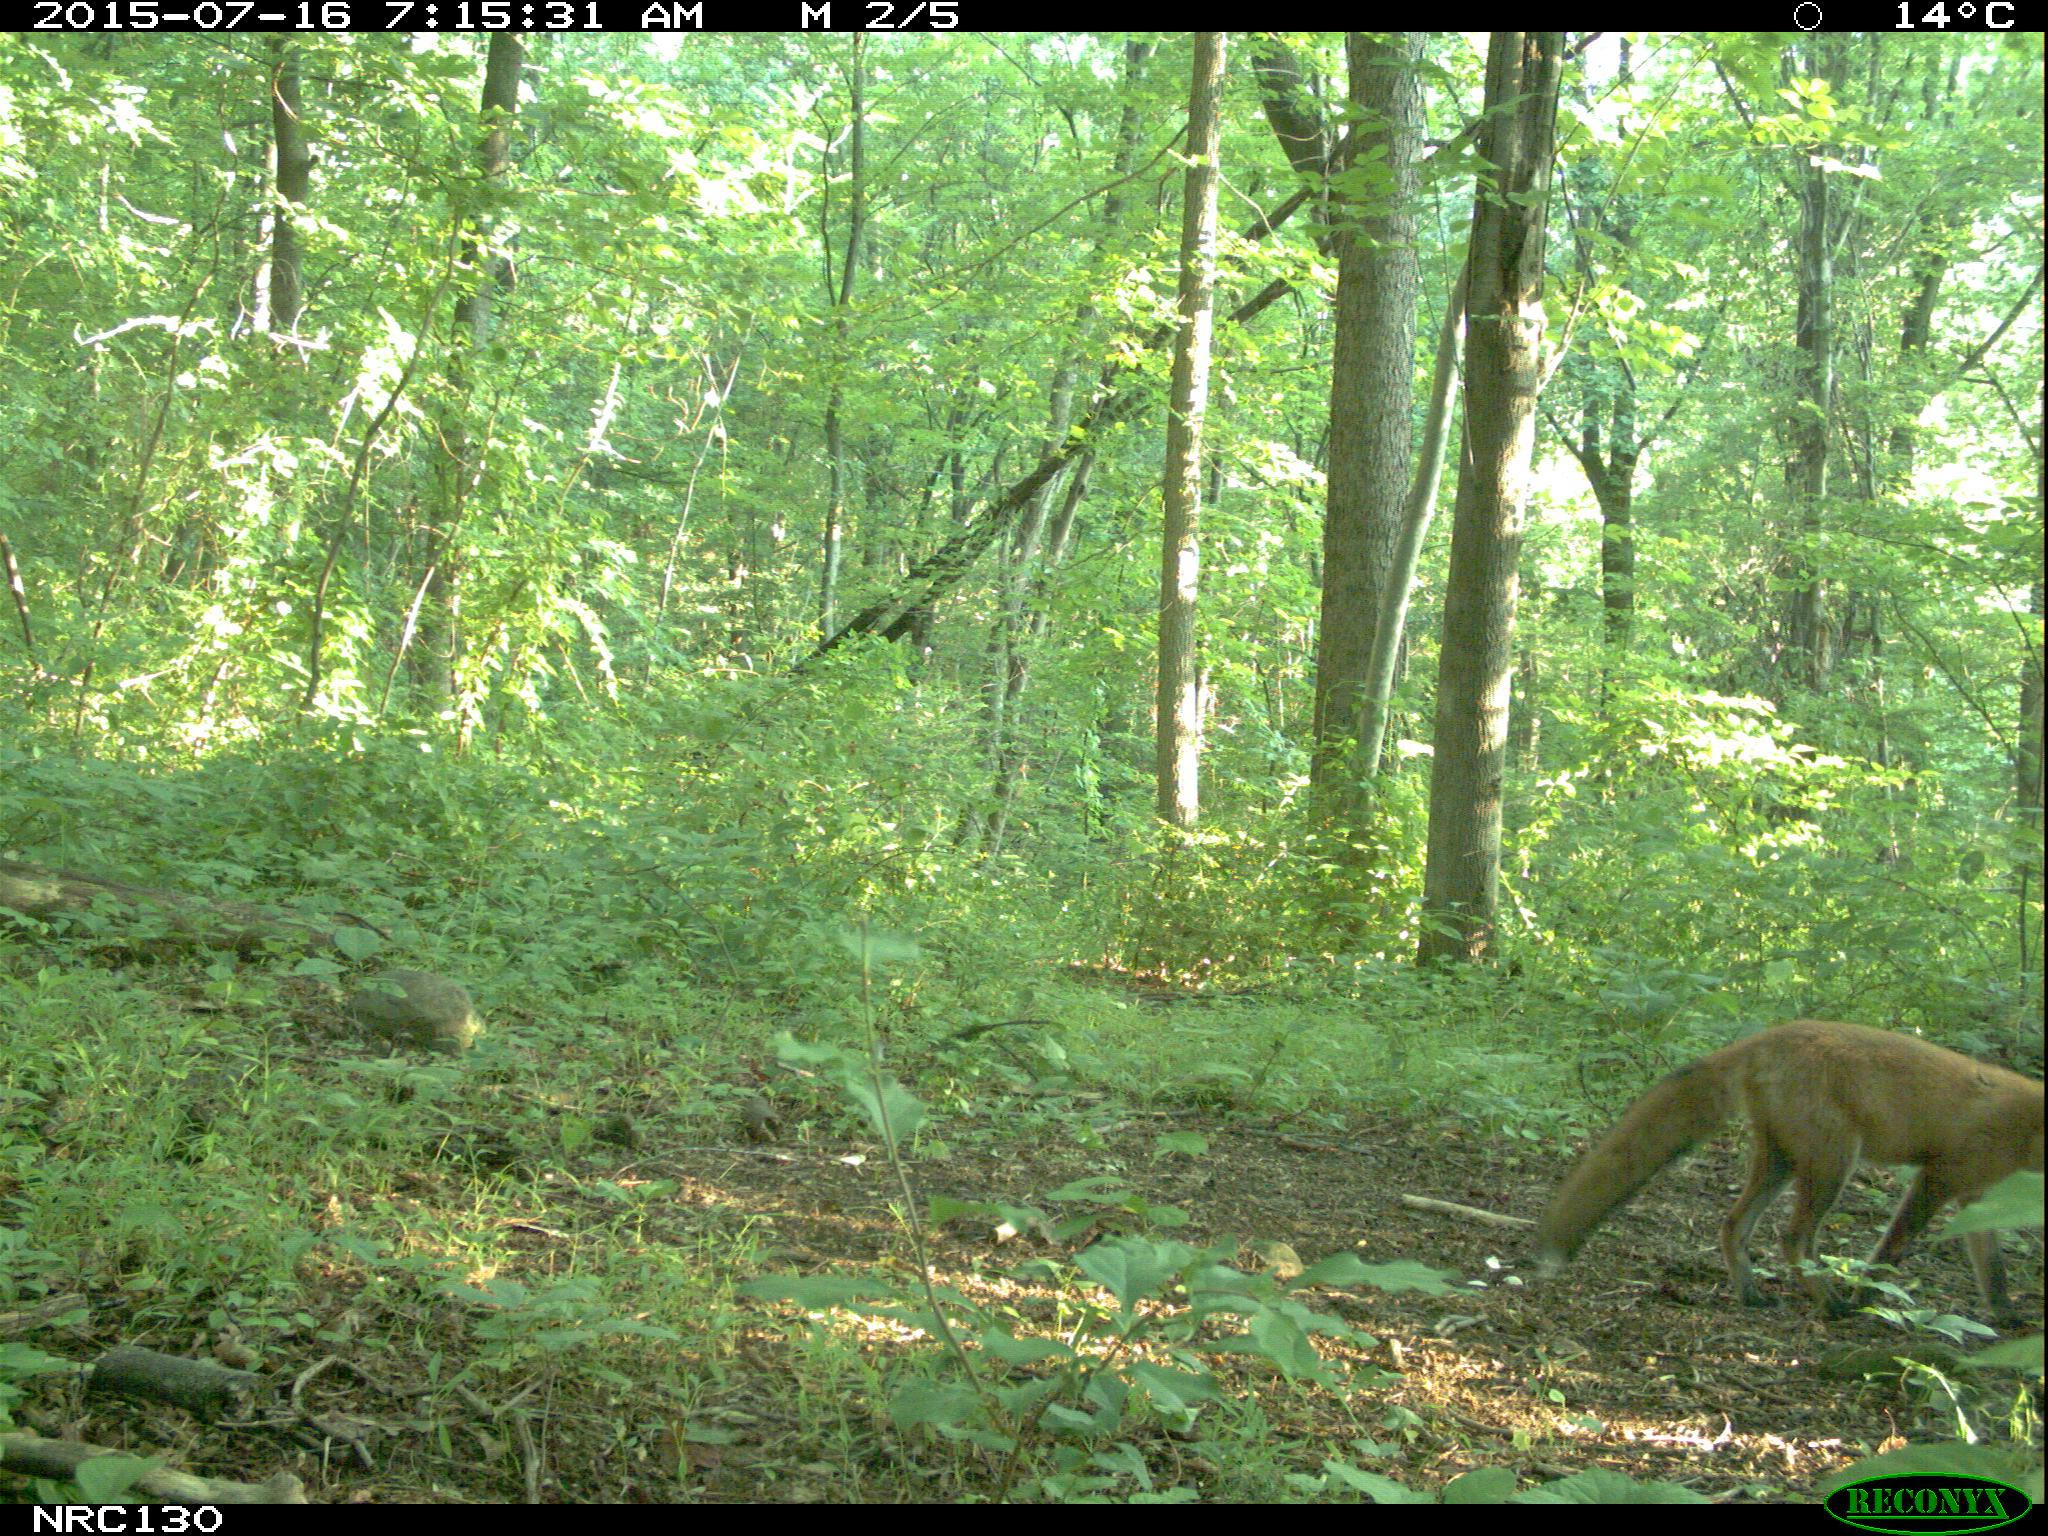Animal: (1537, 1020, 2038, 1339)
